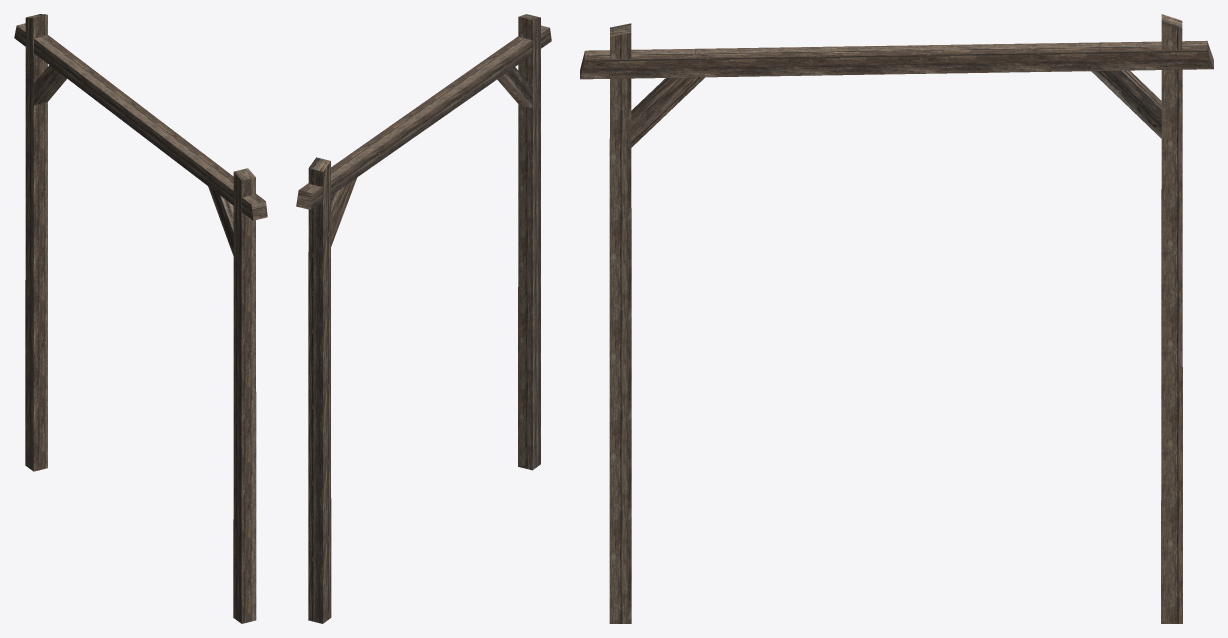
Rendered from gate0.obj.
3 views of the same model, side by side, from view 1: azimuth 30°, elevation 25°; view 2: azimuth 150°, elevation 25°; view 3: azimuth 270°, elevation 25° (orthographic). The views are drawn at different scales.
Visible parts, largest first — view 1: WoodLog_Plank; view 2: WoodLog_Plank; view 3: WoodLog_Plank.
Part boxes in pixels (x1,y1,x2,y2): WoodLog_Plank: [14, 14, 267, 623]; WoodLog_Plank: [296, 14, 551, 623]; WoodLog_Plank: [580, 14, 1213, 623].
Bounding box in the file's own units: 0.206 × 6.01 × 5.75.
1 material, 1 textured.
